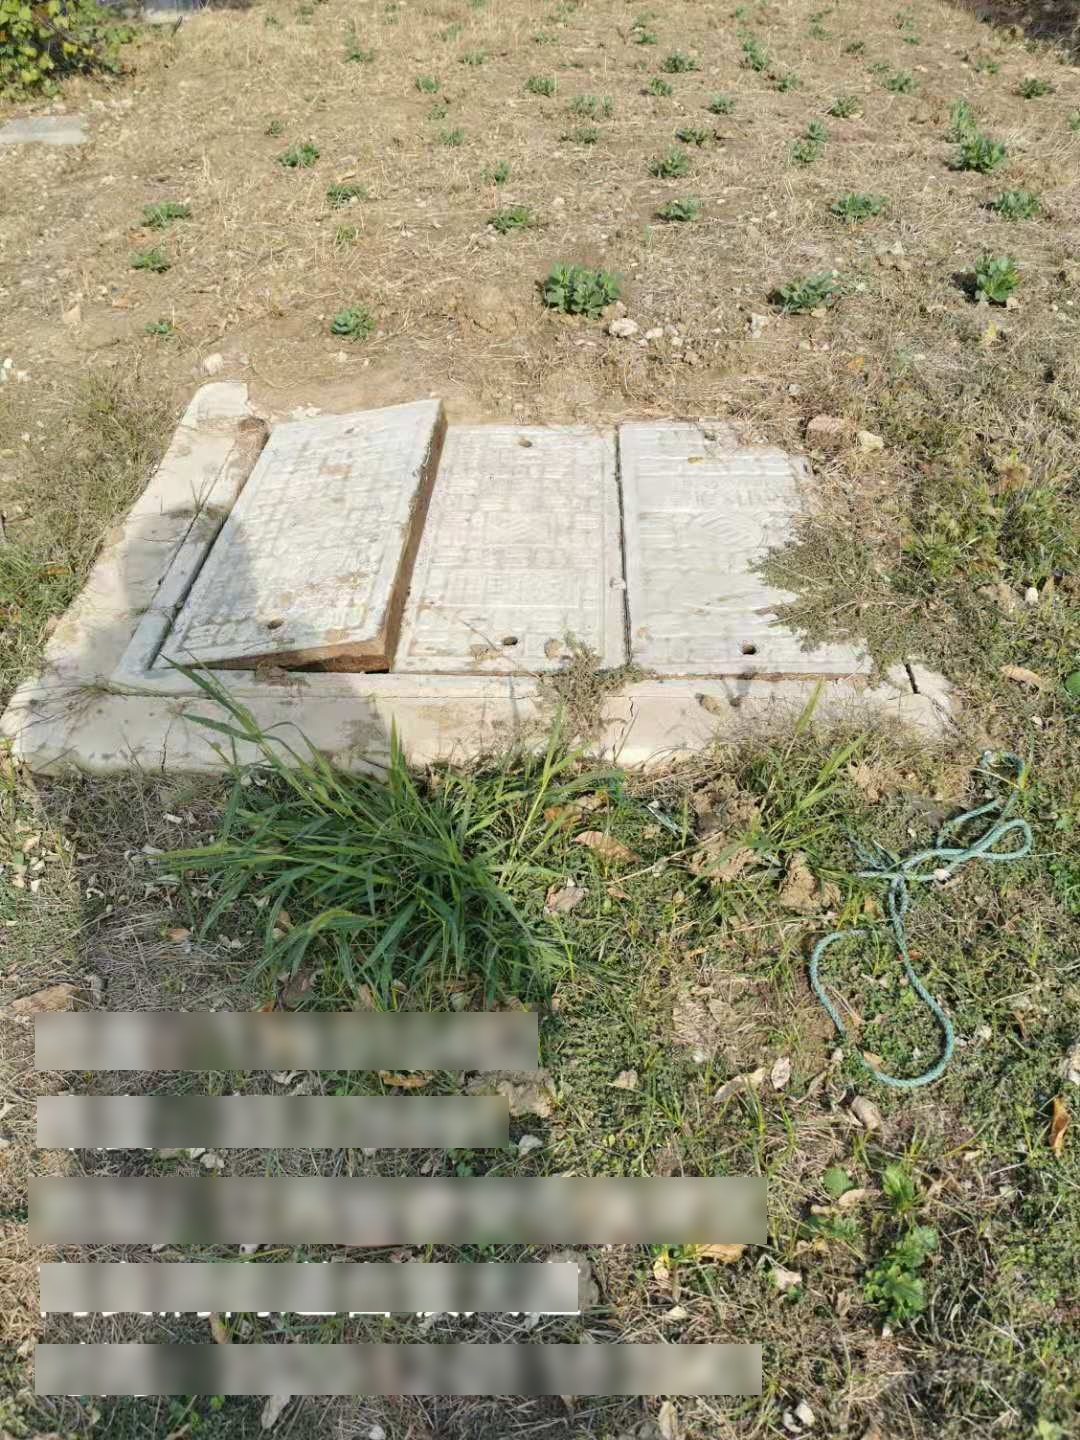well: (115, 392, 895, 709)
